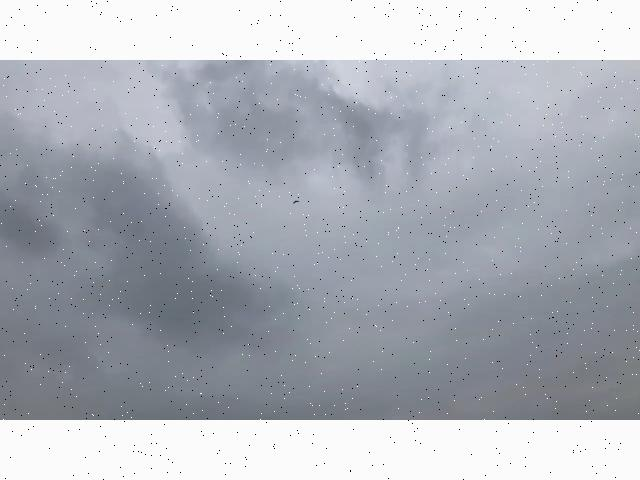Anti-Drone: (285, 199, 315, 215)
